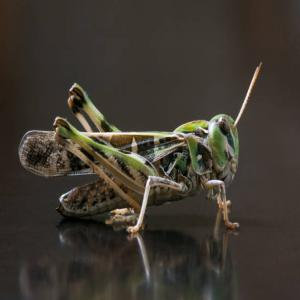locust: (1, 76, 259, 231)
